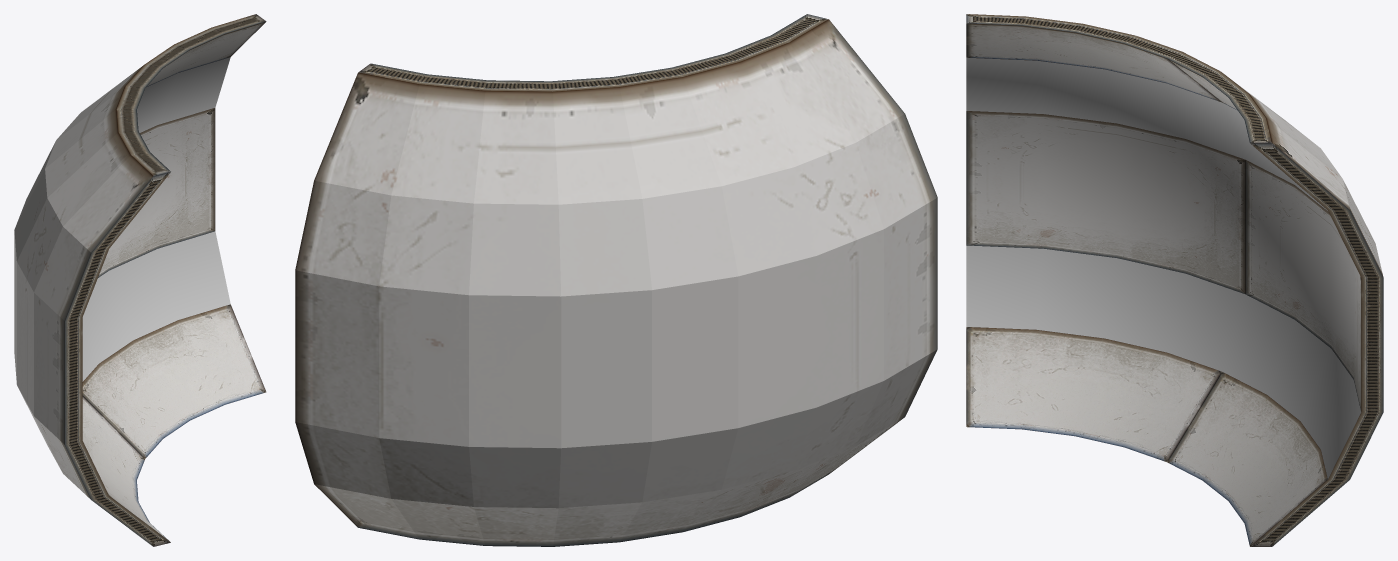
The model's file is scifi_wall_big_curve2_1.FBX.
The picture shows the model from 3 angles, left to right: view 1: azimuth 30°, elevation 25°; view 2: azimuth 150°, elevation 25°; view 3: azimuth 270°, elevation 25°; orthographic projection. The views are drawn at different scales.
Parts seen in each view (by area): view 1: Plane172; view 2: Plane172; view 3: Plane172.
Part boxes in pixels (x1=…): Plane172: x1=14, y1=14, x2=266, y2=546; Plane172: x1=295, y1=14, x2=937, y2=546; Plane172: x1=966, y1=14, x2=1383, y2=546.
Bounding box in the file's own units: 476 × 508 × 476.
